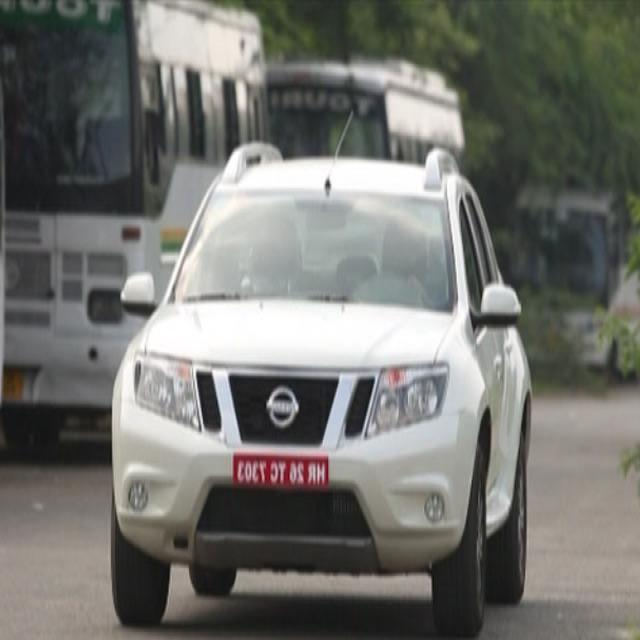number-plate: (210, 444, 340, 505)
